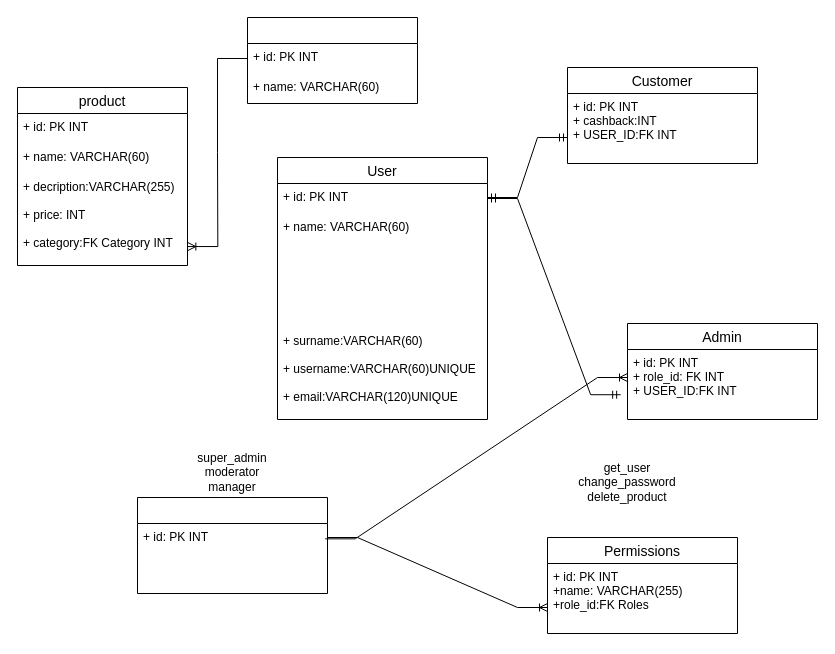
Some shapes in this 835 by 654 pixel diagram are drawn without their labels. Here are the shapes that lost their labels. From the top down, the box of each, then its label:
(246, 16, 418, 104): Category
(136, 496, 328, 594): Role
